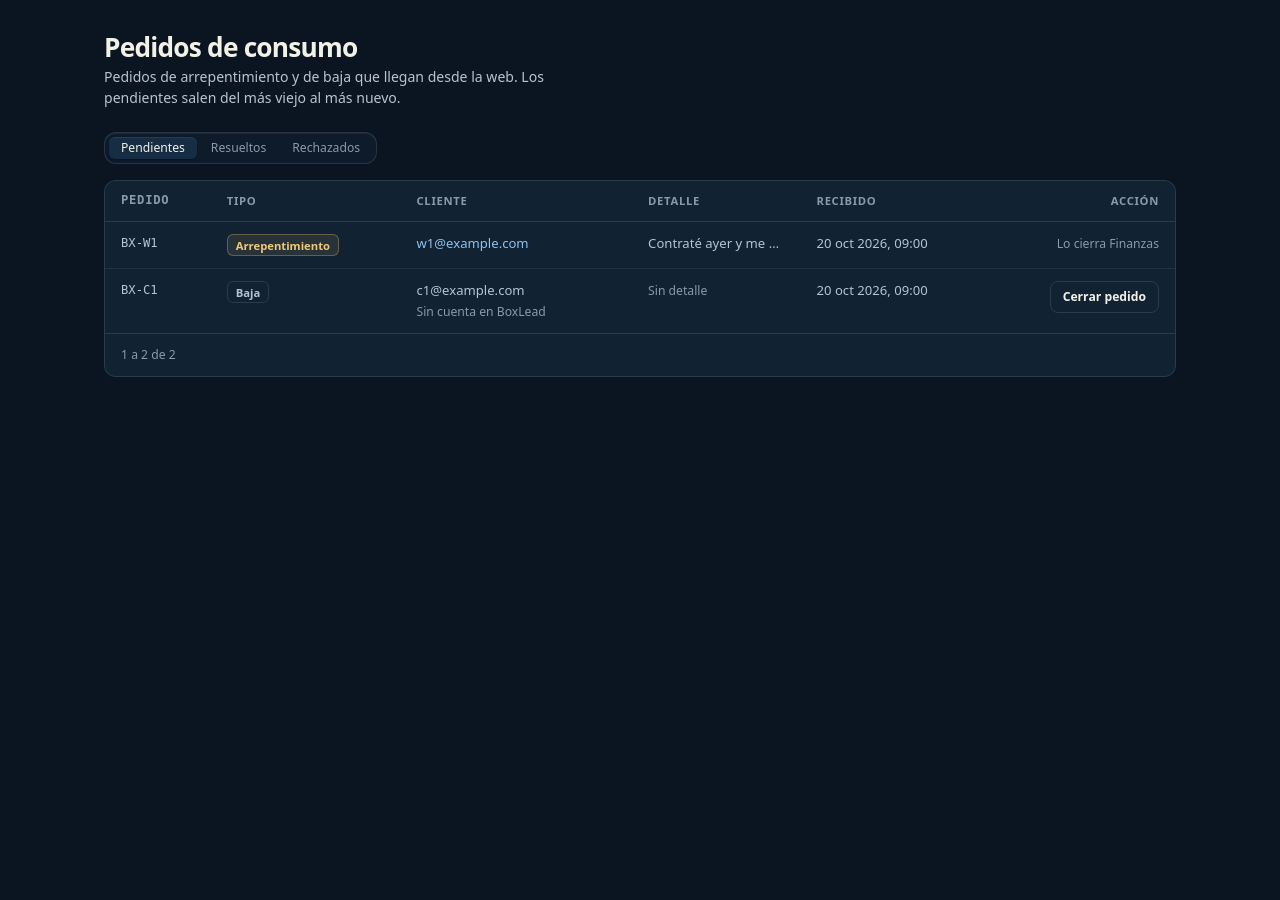
Test: ConsumerRequestsScreen › loads the list again after closing a request
Step 1. Click the button "Cerrar pedido" → [1104, 297], box [1050,281,1159,313]
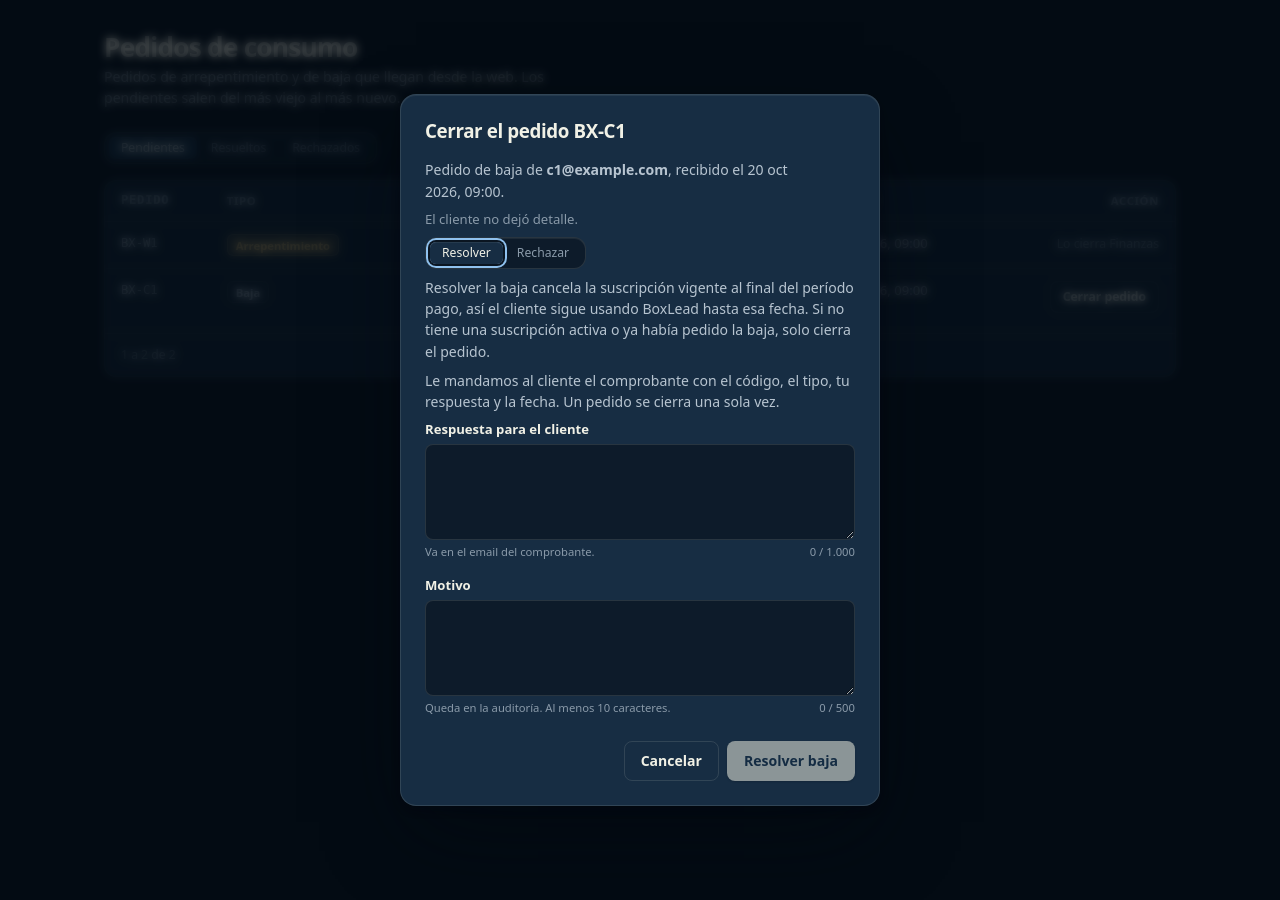
Step 2. Type "Cancelamos tu suscripción." into the text box labelled "Respuesta para el cliente" → [640, 492], box [425,444,855,540]
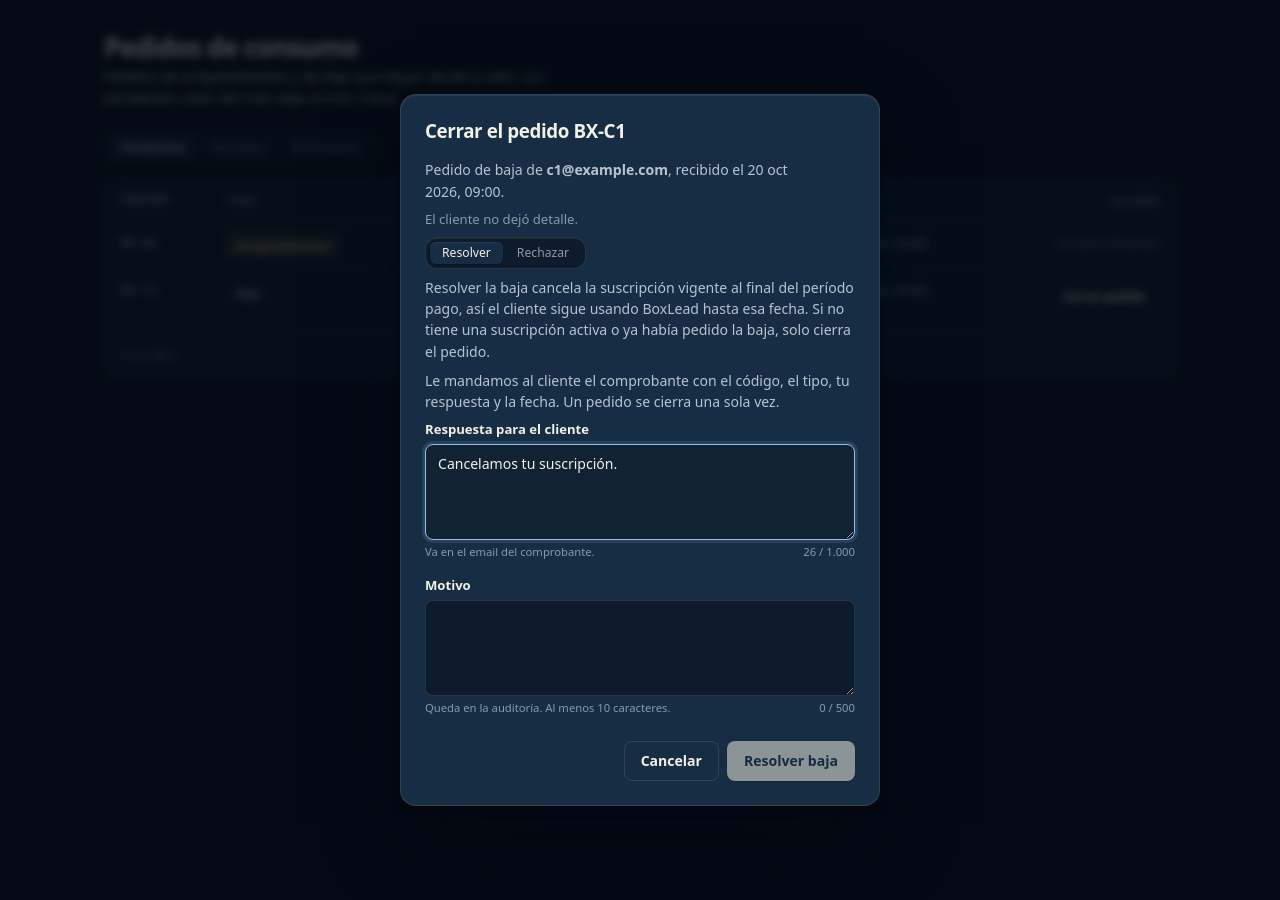
Step 3. Type "Baja pedida desde la web" into the text box labelled "Motivo" → [640, 648], box [425,600,855,696]
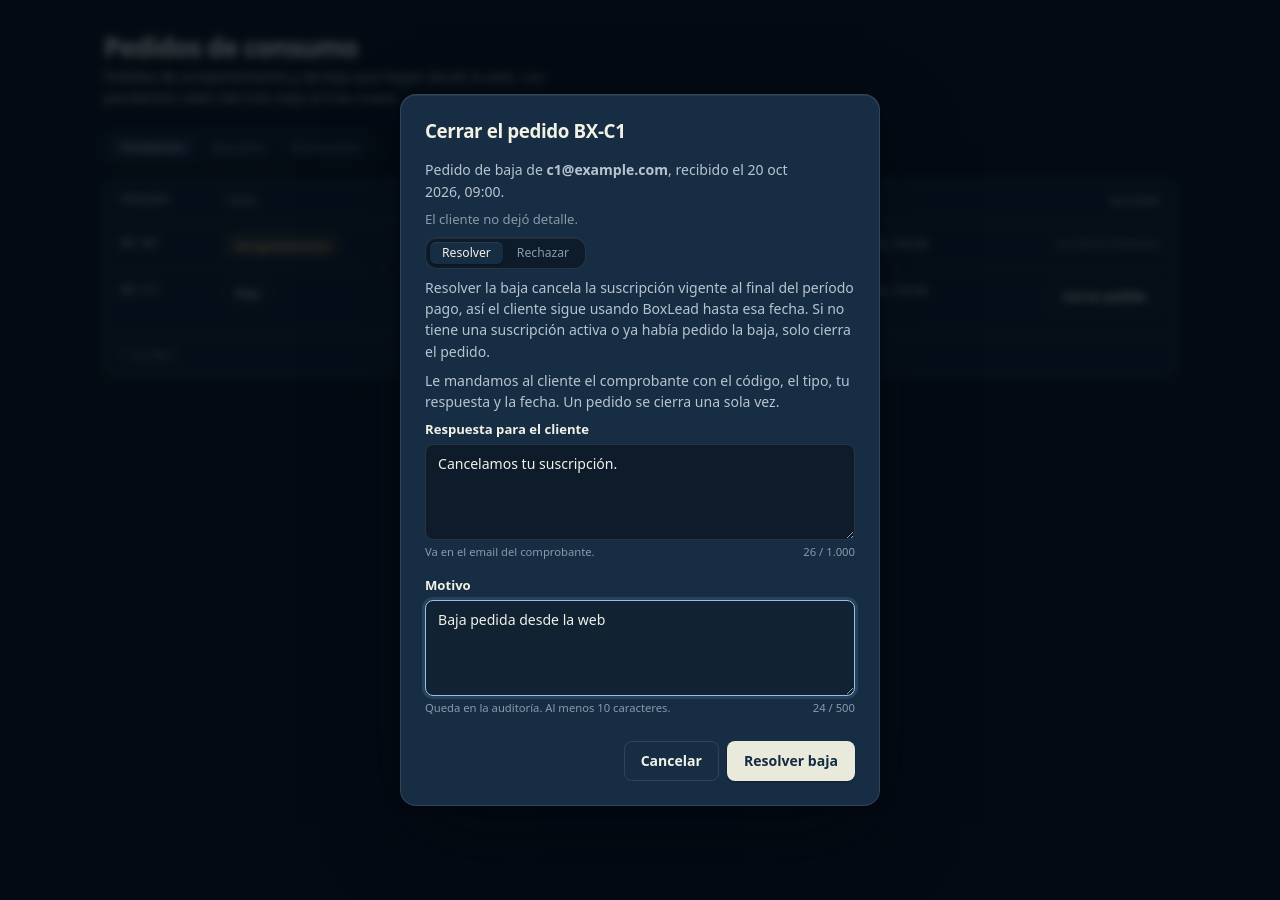
Step 4. Click the button "Resolver baja" → [791, 761], box [727,741,855,781]
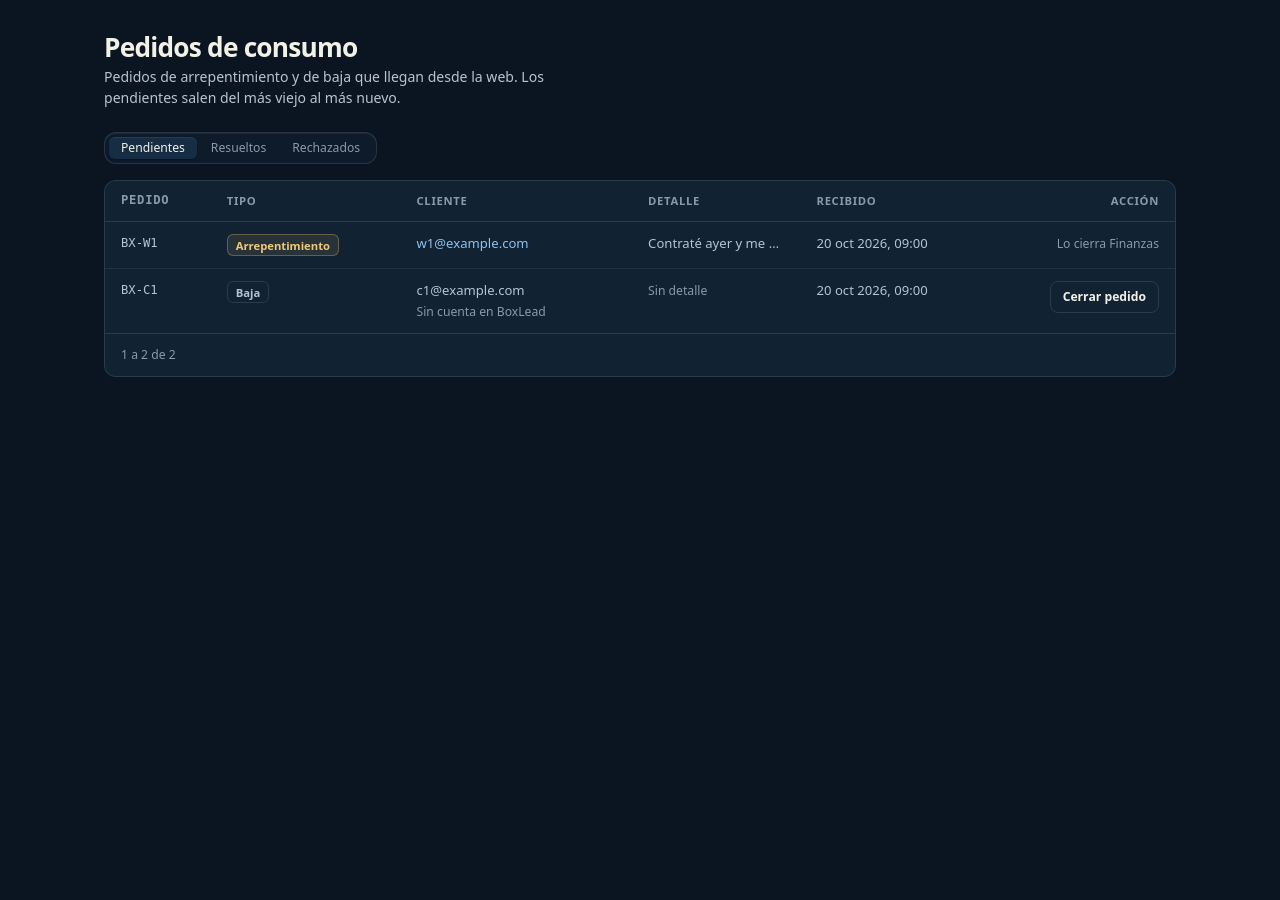
Check: the dialog is gone
